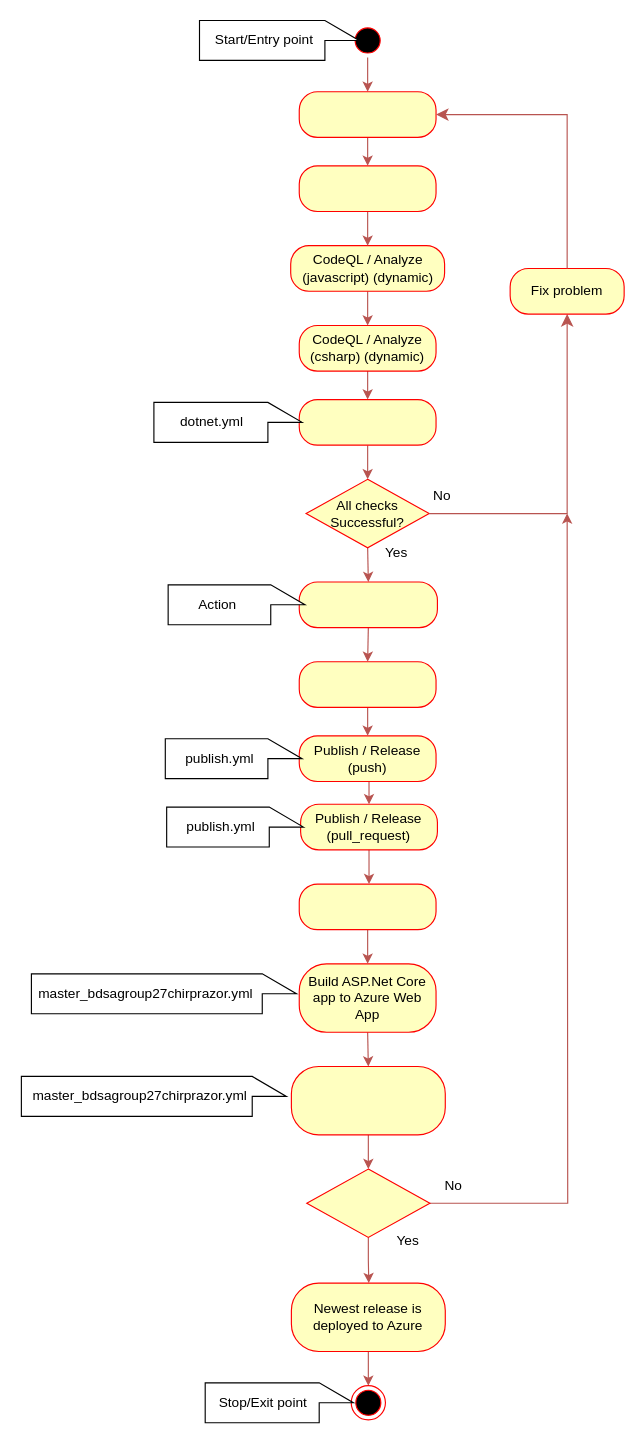
Some shapes in this 644 by 1442 pixel diagram are drawn without their labels. The shapes that lost their labels are listed below. From the top down, each one's box as (x1, y1, x2, y2) in pixels, then its label:
(298, 91, 436, 137): Create new pull request
(298, 165, 436, 211): CodeQL
(298, 398, 436, 445): .NET / build and test (push)
(298, 581, 437, 628): Manually create tag
(298, 661, 436, 707): Merge pull request into master
(298, 883, 436, 930): Release is created
(290, 1065, 445, 1135): Deploy ASP.Net Core app to Azure Web App
(306, 1168, 430, 1237): Successful?
